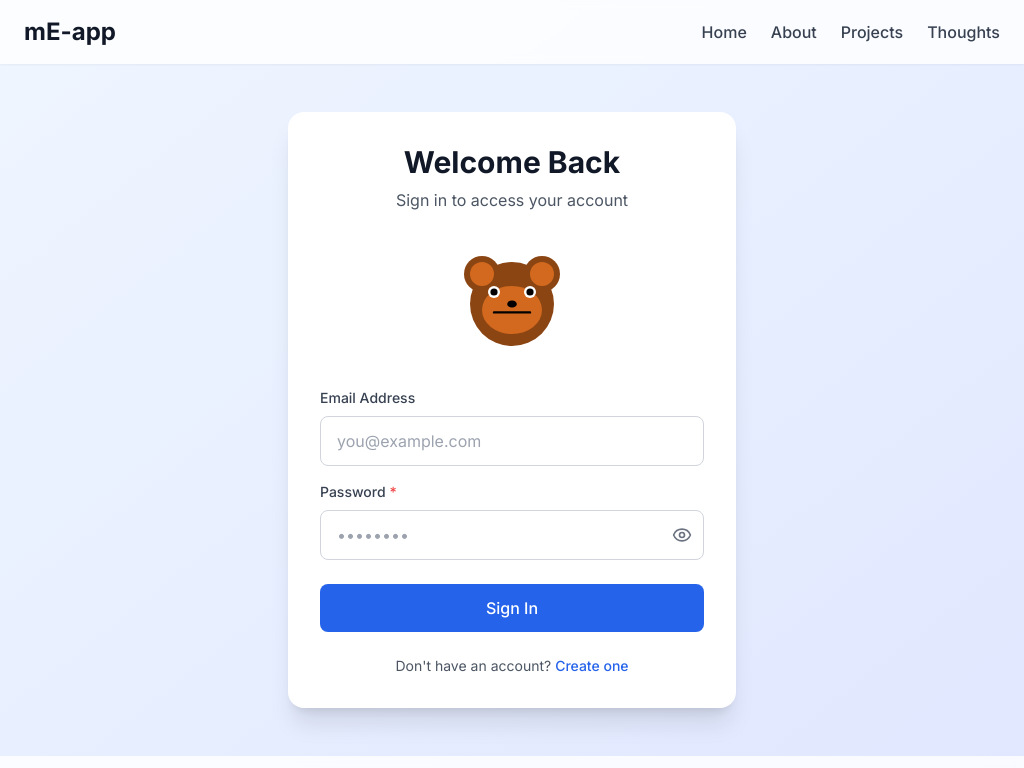
Scenario: Login Page › Form Validation › should clear errors when user starts typing
Click the field labelled "Email Address".
click(512, 441)  # box [320,416,704,466]
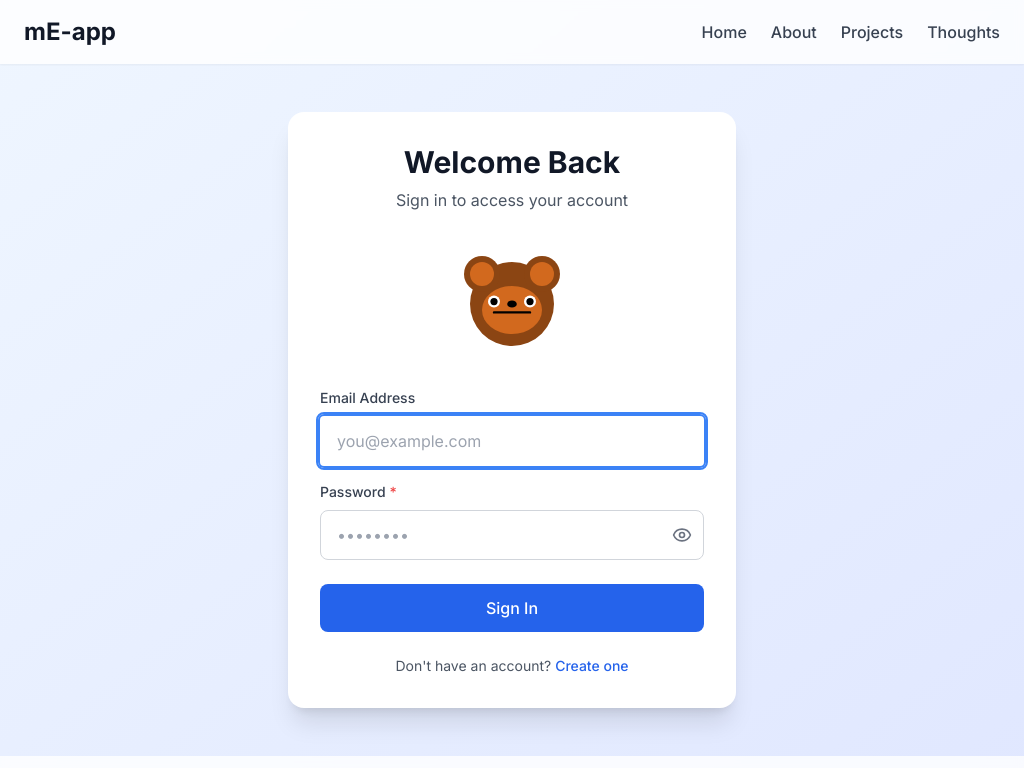
Press Tab
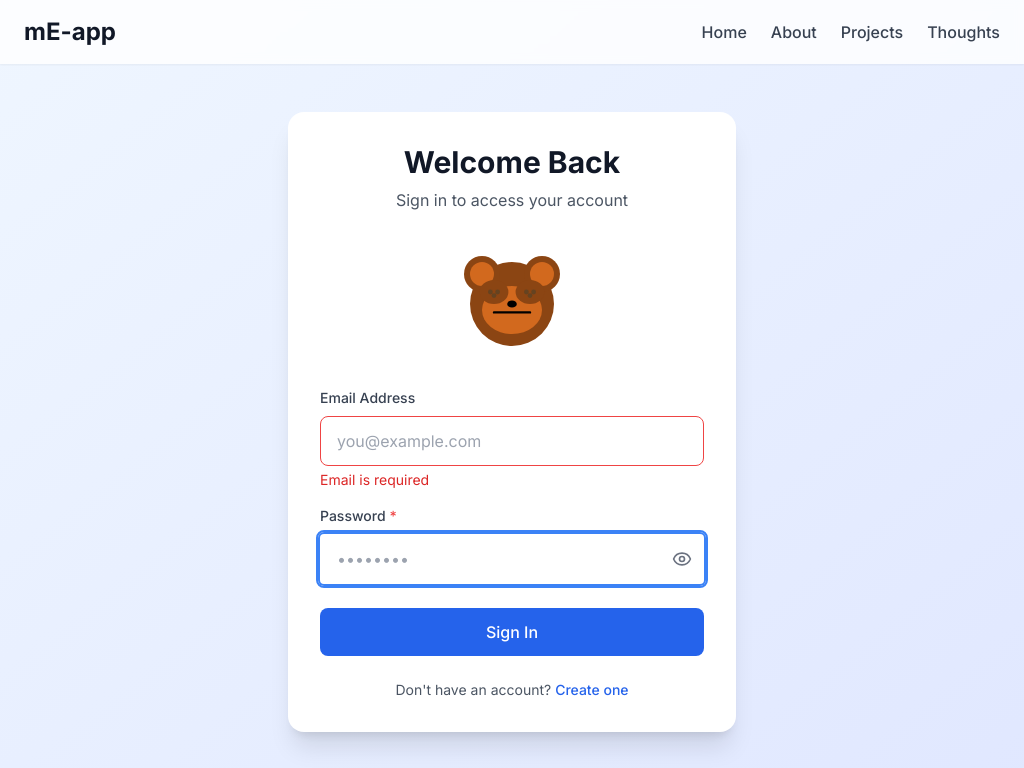
Now the text "Email is required" is shown, box [320,471,429,488]
Type "test@example.com" into the field labelled "Email Address".
click(512, 441); type("test@example.com")  # box [320,416,704,466]
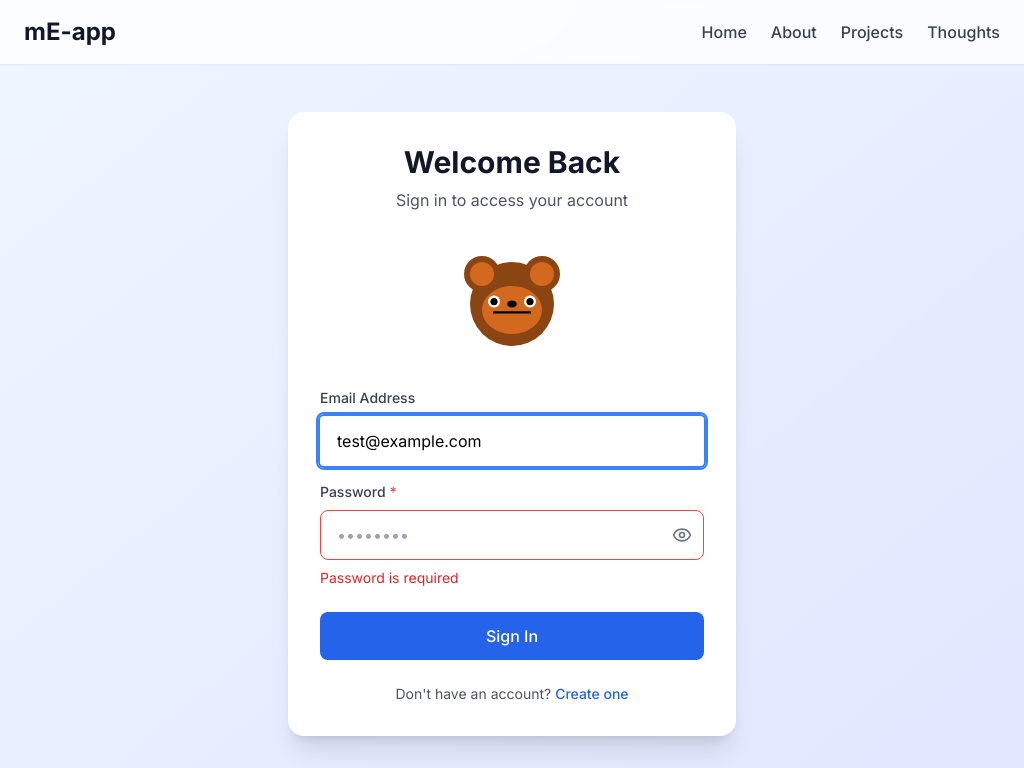
Now the text "Email is required" is gone
